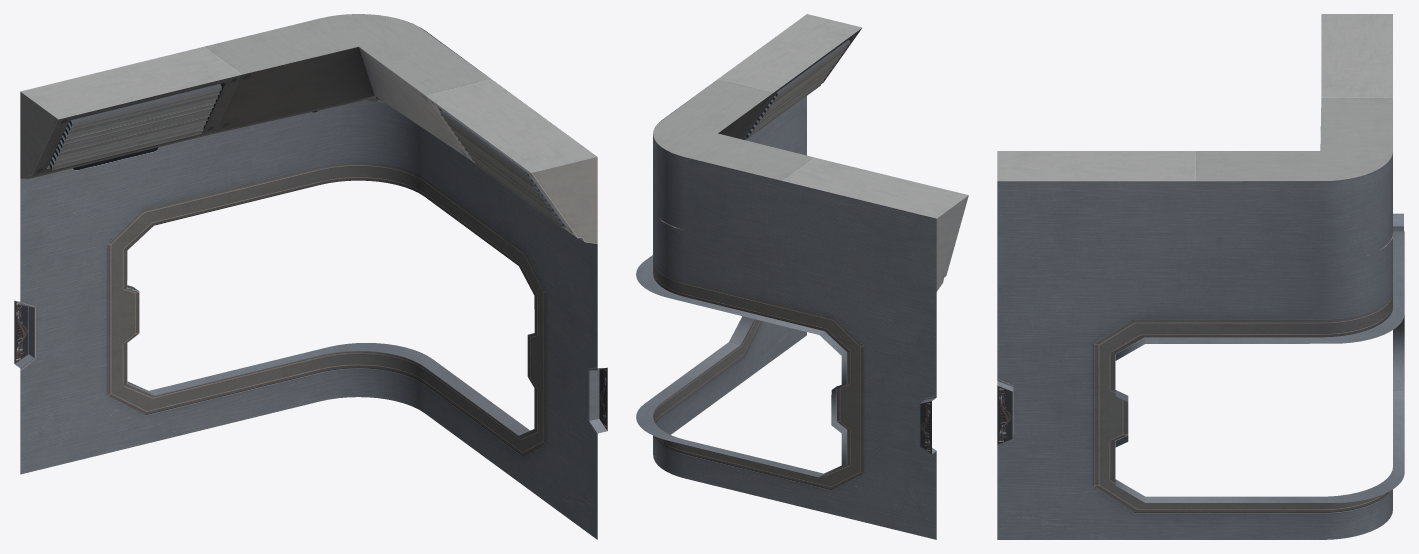
File: DS_SM021_Scifi_Room_WallWindowCorner_01_LP.fbx
3 renders of one model, left to right at view 1: azimuth 30°, elevation 25°; view 2: azimuth 150°, elevation 25°; view 3: azimuth 270°, elevation 25°, orthographic. The views are drawn at different scales.
Visible parts, largest first — view 1: DS_SM021_Scifi_Room_WallWindowCorner_01_LP.001; view 2: DS_SM021_Scifi_Room_WallWindowCorner_01_LP.001; view 3: DS_SM021_Scifi_Room_WallWindowCorner_01_LP.001.
Part boxes in pixels (box(x1,y1,x2,y2)): DS_SM021_Scifi_Room_WallWindowCorner_01_LP.001: box(14, 14, 607, 539); DS_SM021_Scifi_Room_WallWindowCorner_01_LP.001: box(636, 14, 968, 539); DS_SM021_Scifi_Room_WallWindowCorner_01_LP.001: box(997, 14, 1404, 539).
Bounding box in the file's own units: 831 × 800 × 823.
